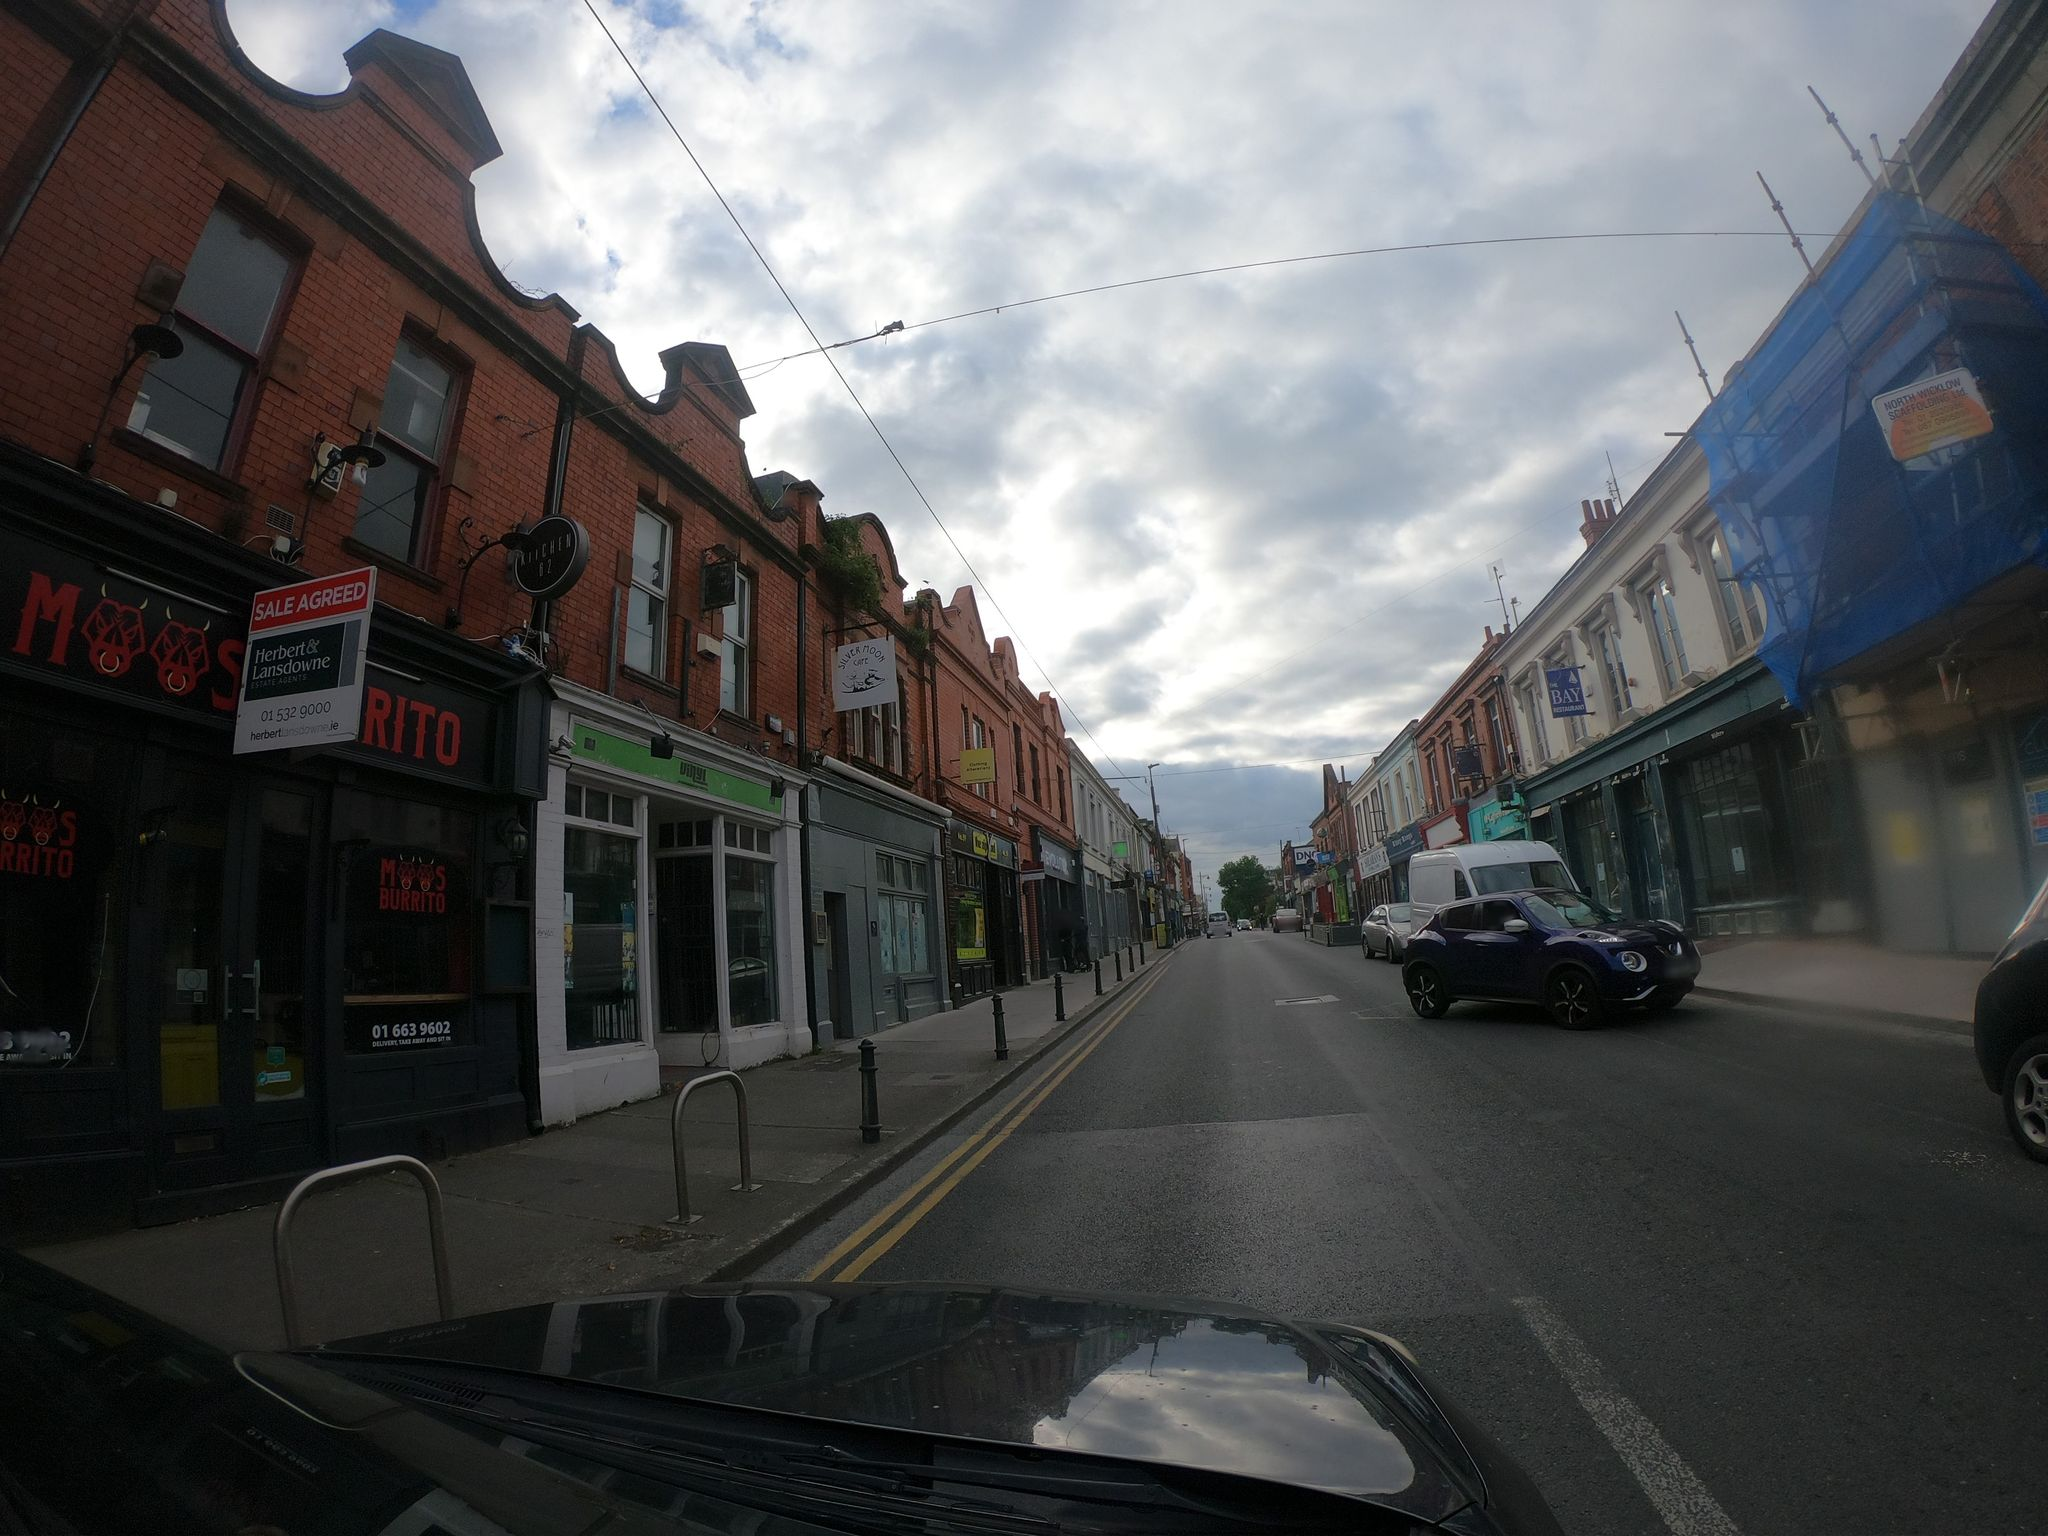property sign: (227, 561, 405, 774)
